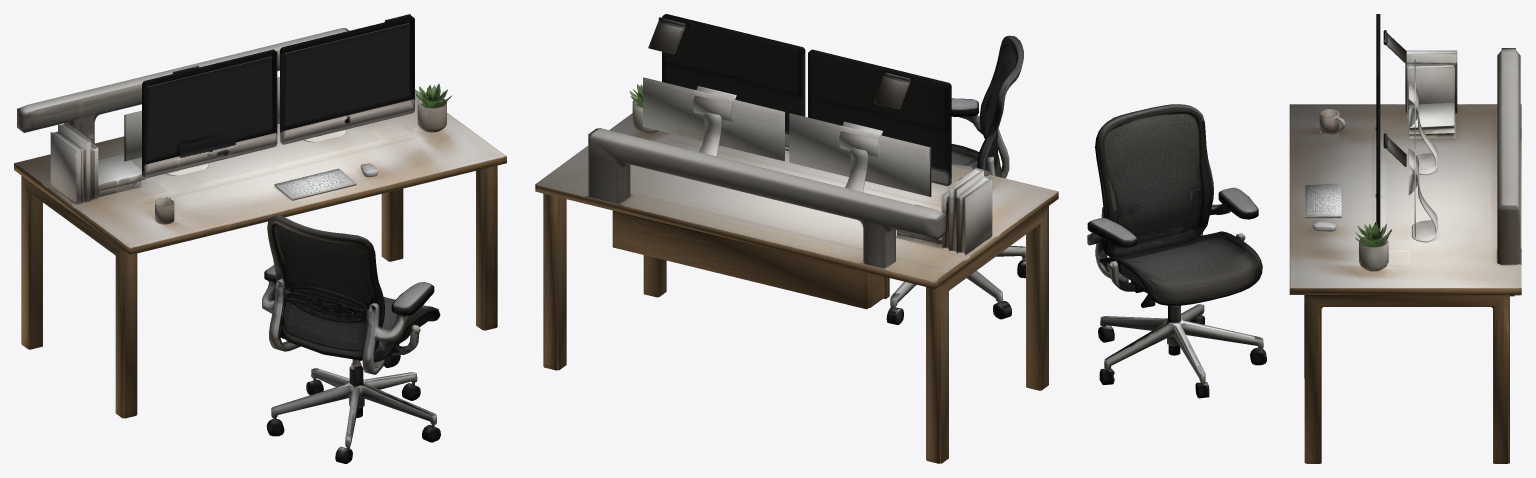
File: desk.glb
3 renders of one model, left to right at view 1: azimuth 30°, elevation 25°; view 2: azimuth 150°, elevation 25°; view 3: azimuth 270°, elevation 25°, orthographic. The views are drawn at different scales.
Visible parts, largest first — view 1: tripo_node_031d03a7-0513-4499-b278-5a0fdf231fa7; view 2: tripo_node_031d03a7-0513-4499-b278-5a0fdf231fa7; view 3: tripo_node_031d03a7-0513-4499-b278-5a0fdf231fa7.
Part boxes in pixels (<box>): tripo_node_031d03a7-0513-4499-b278-5a0fdf231fa7: <box>14,14,506,463</box>; tripo_node_031d03a7-0513-4499-b278-5a0fdf231fa7: <box>535,14,1058,463</box>; tripo_node_031d03a7-0513-4499-b278-5a0fdf231fa7: <box>1087,14,1521,463</box>.
Size of the model in its own units: 0.9995 by 0.7505 by 0.9995.
Materials: 1 (1 with a texture image).
